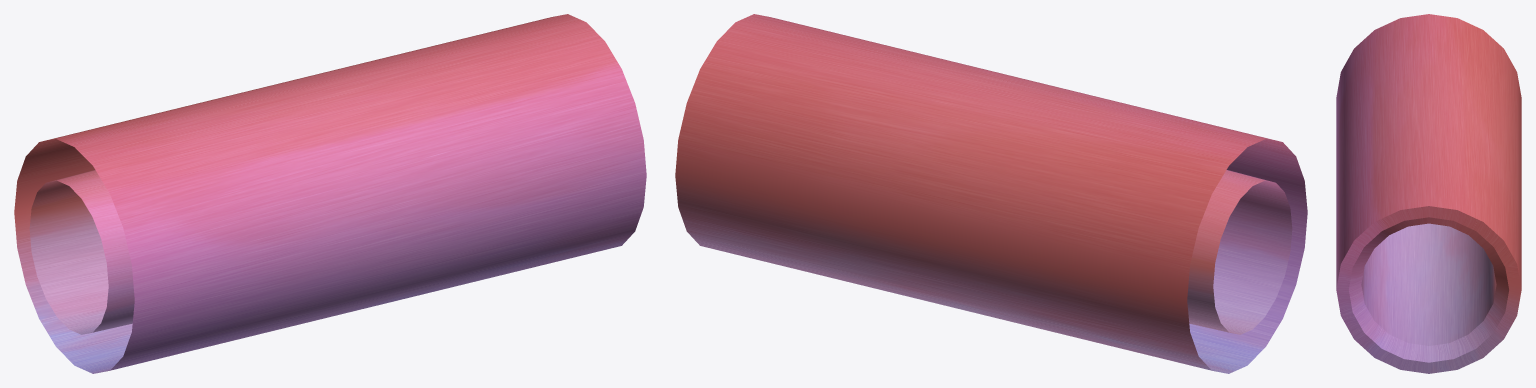
File: ConveyorCylinder.fbx
3 renders of one model, left to right at view 1: azimuth 30°, elevation 25°; view 2: azimuth 150°, elevation 25°; view 3: azimuth 270°, elevation 25°, orthographic. The views are drawn at different scales.
Parts seen in each view (by area): view 1: pCylinder1; view 2: pCylinder1; view 3: pCylinder1.
Part boxes in pixels (box(x1,y1,x2,y2)): pCylinder1: box(14, 14, 646, 373); pCylinder1: box(675, 14, 1307, 373); pCylinder1: box(1336, 14, 1521, 373).
Size of the model in its own units: 1.53 by 0.6179 by 0.6179.
1 material, 1 textured.
